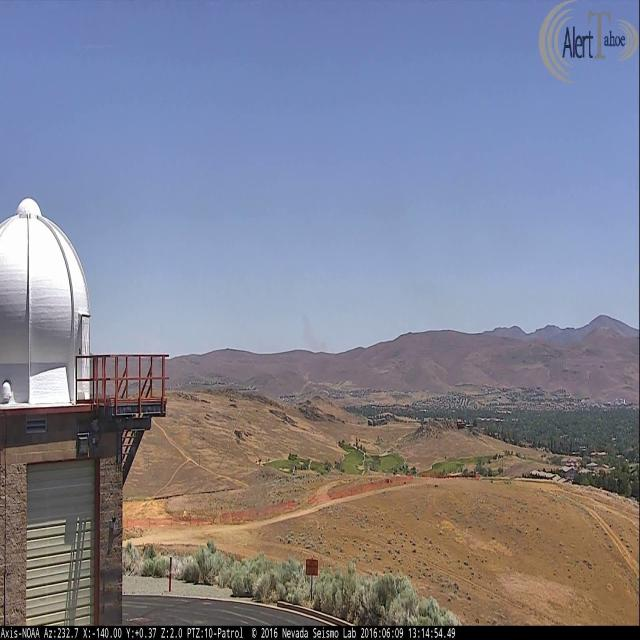smoke: (301, 315, 329, 352)
